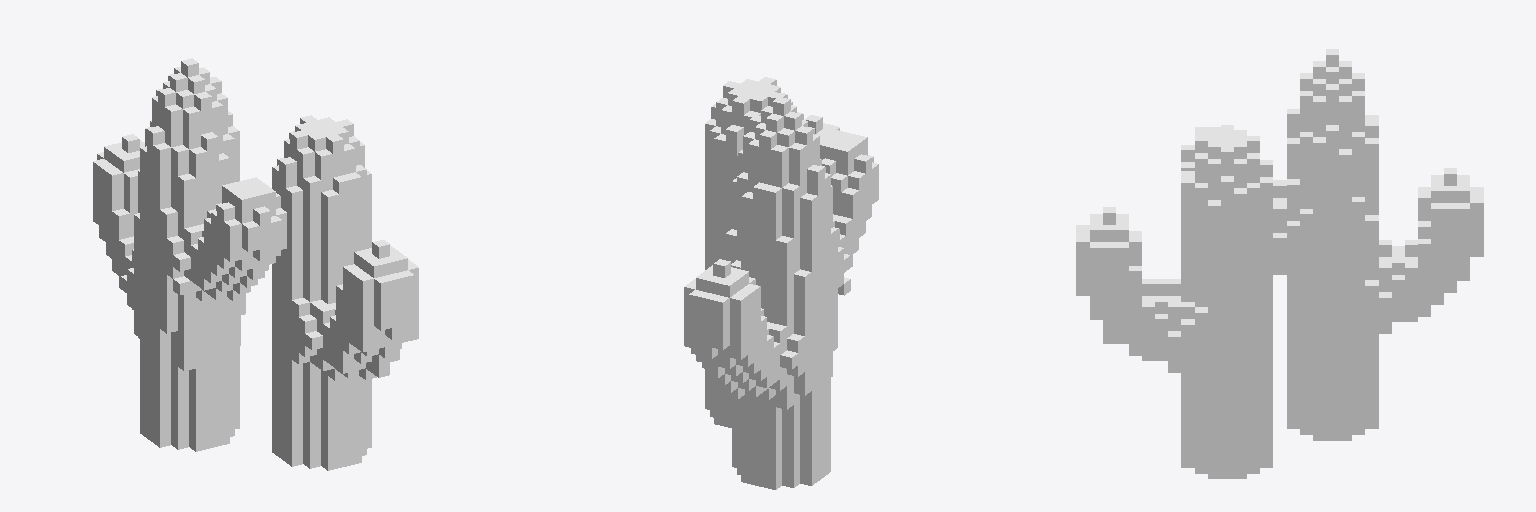
File: 2bigcactus.obj
3 renders of one model, left to right at view 1: azimuth 30°, elevation 25°; view 2: azimuth 150°, elevation 25°; view 3: azimuth 270°, elevation 25°, orthographic.
Visible parts, largest first — view 1: object 1; view 2: object 1; view 3: object 1.
Boxes of the visible parts, box(x1,y1,x2,y2) form: object 1: box(93, 58, 418, 470); object 1: box(684, 77, 878, 489); object 1: box(1076, 49, 1483, 478).
Bounding box in the file's own units: 1.4 × 3.1 × 3.1.